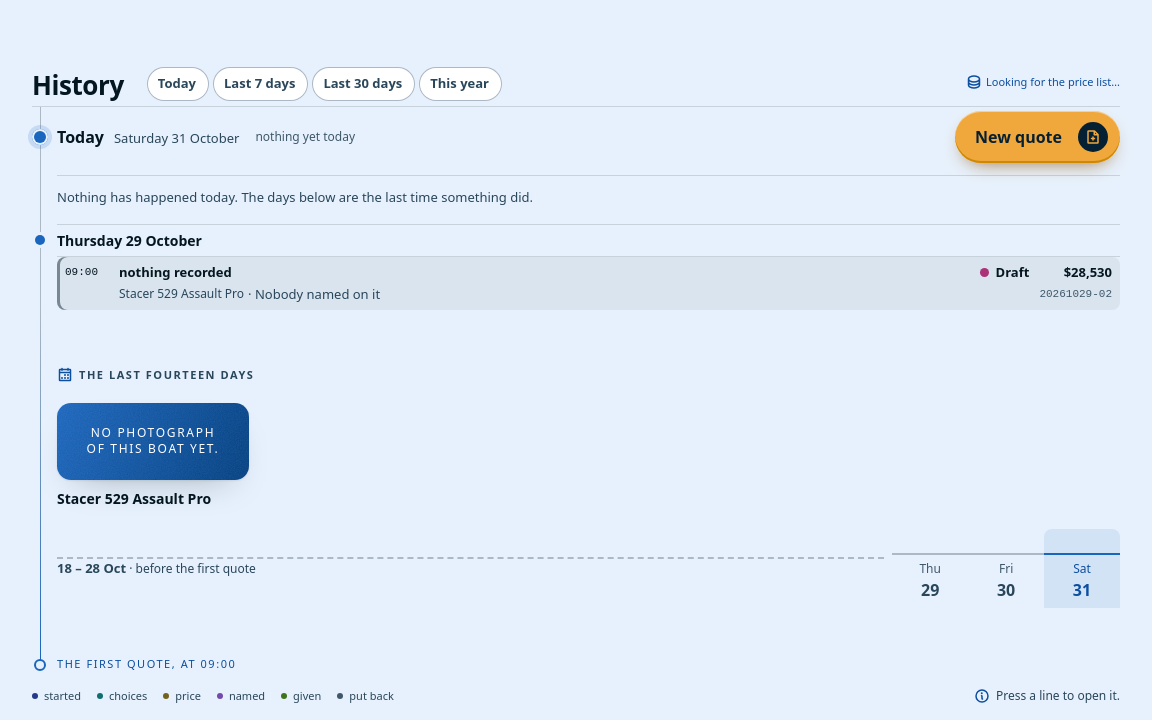
Test: the diary, with quotes in it › shows a document with no diary under the day it was made, and says so when opened
This screenshot has width=1152, height=720.
Click the row that starts with "nothing recorded".
click(588, 283)  # box 57,256 -> 1120,310
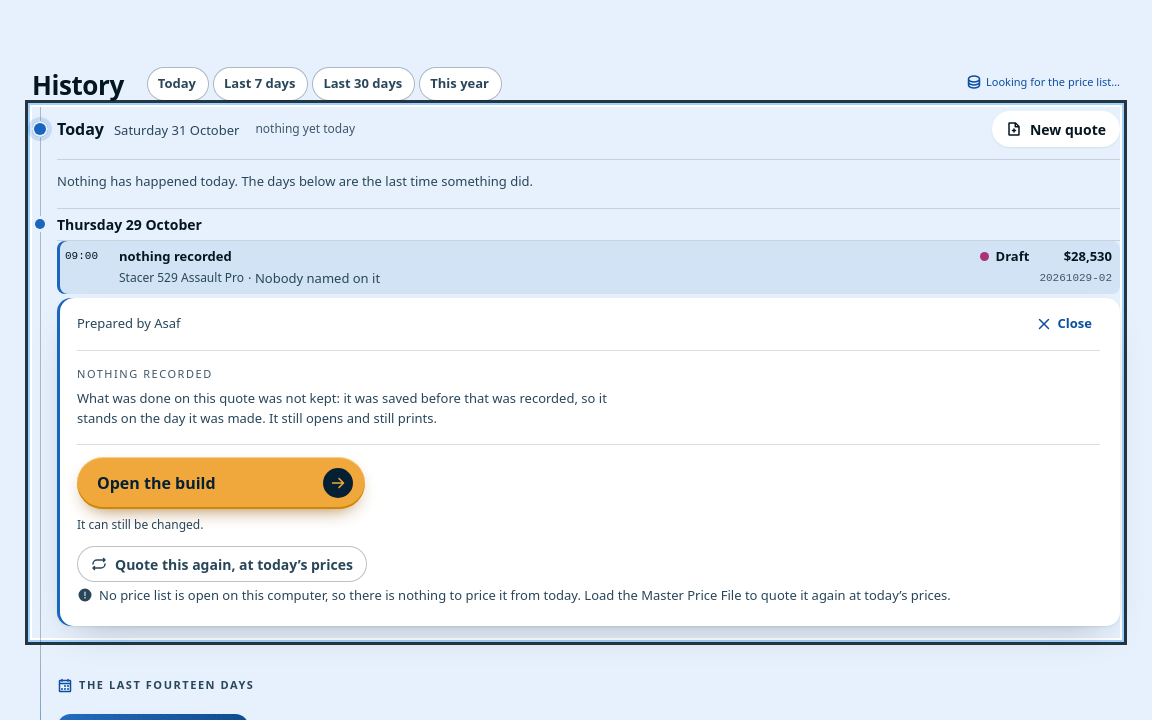
expect the text "What was done on this quote was not kept: it was saved before that was recorded, so it stands on the day it was made. It" is shown: met, box 77,389 -> 607,427
